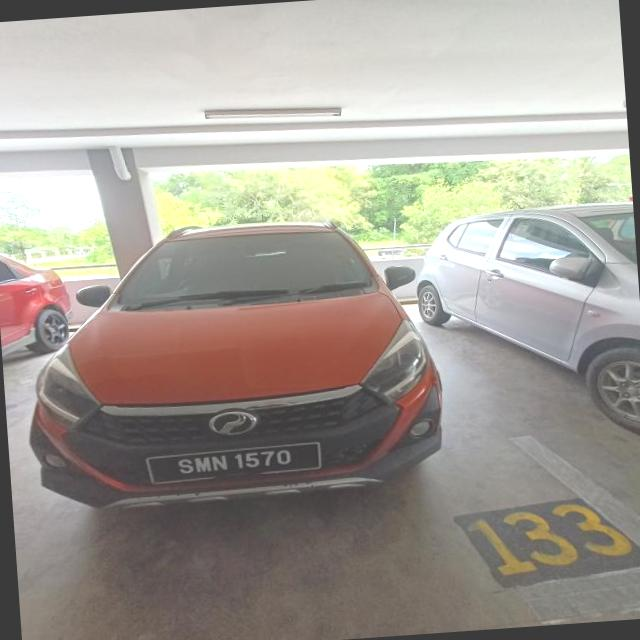PeroduaAxia: (13, 208, 450, 516)
